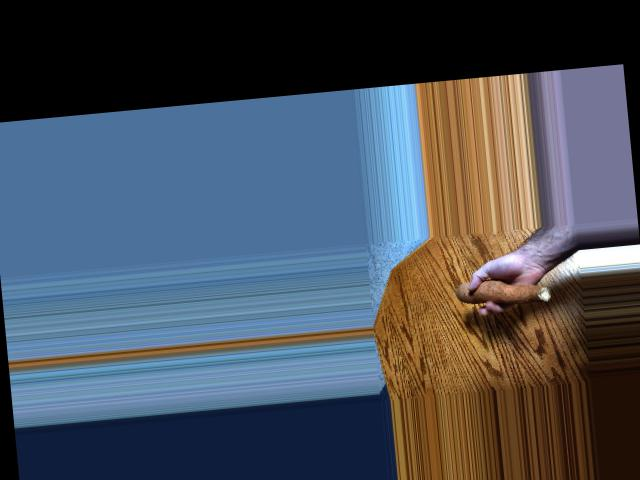sweet_potato: (461, 273, 544, 310)
